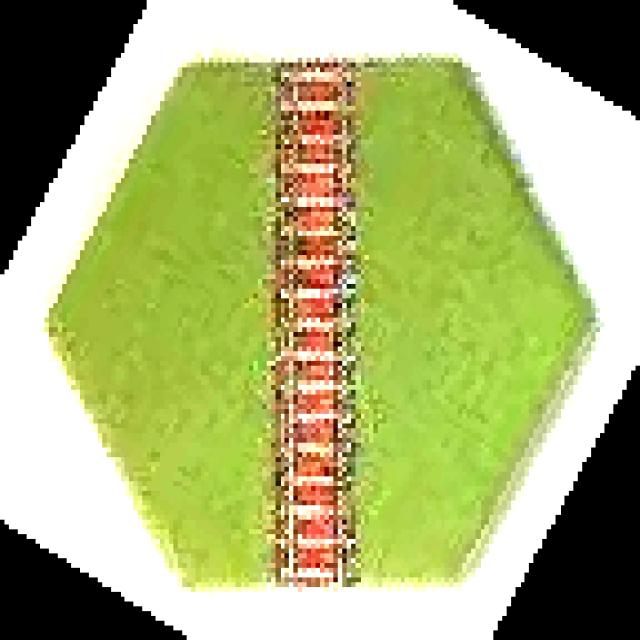3_1: (44, 59, 594, 588)
